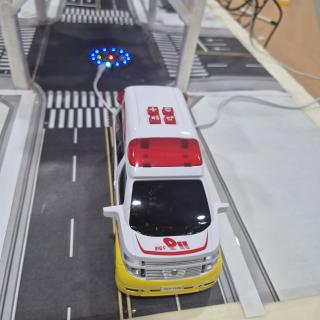Ambulance: (103, 86, 228, 296)
